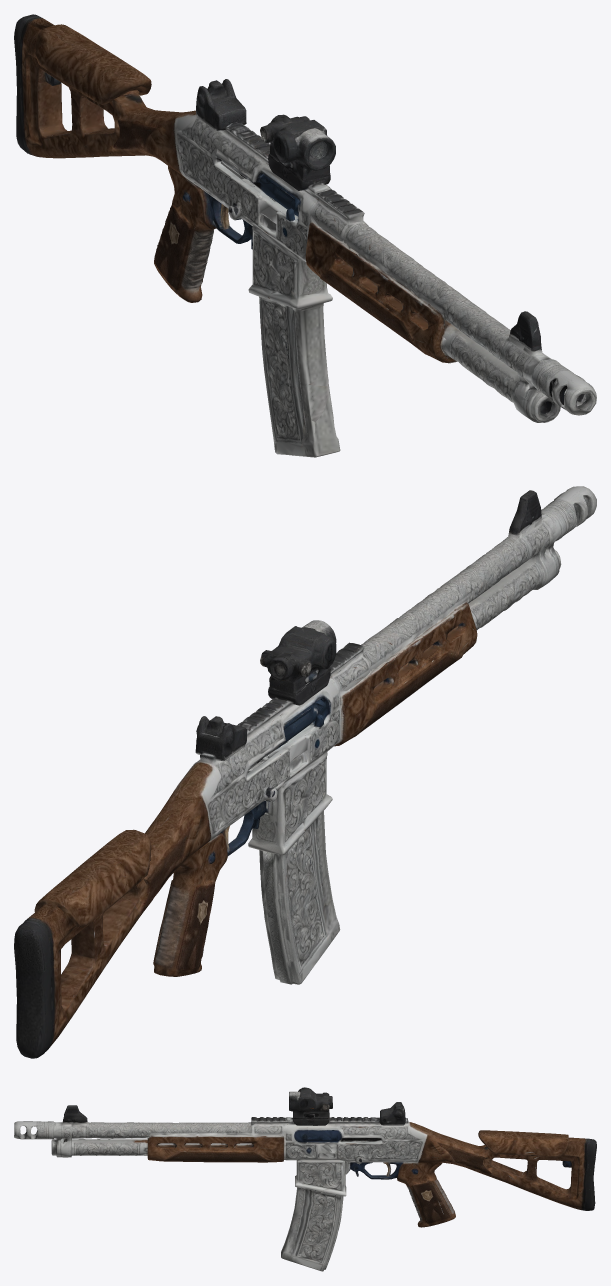
Rendered from shotgun.glb.
3 renders of one model, top to bottom at view 1: azimuth 30°, elevation 25°; view 2: azimuth 150°, elevation 25°; view 3: azimuth 270°, elevation 25°, orthographic. The views are drawn at different scales.
Size of the model in its own units: 0.0489 by 0.3169 by 0.95.
1 material, 1 textured.
